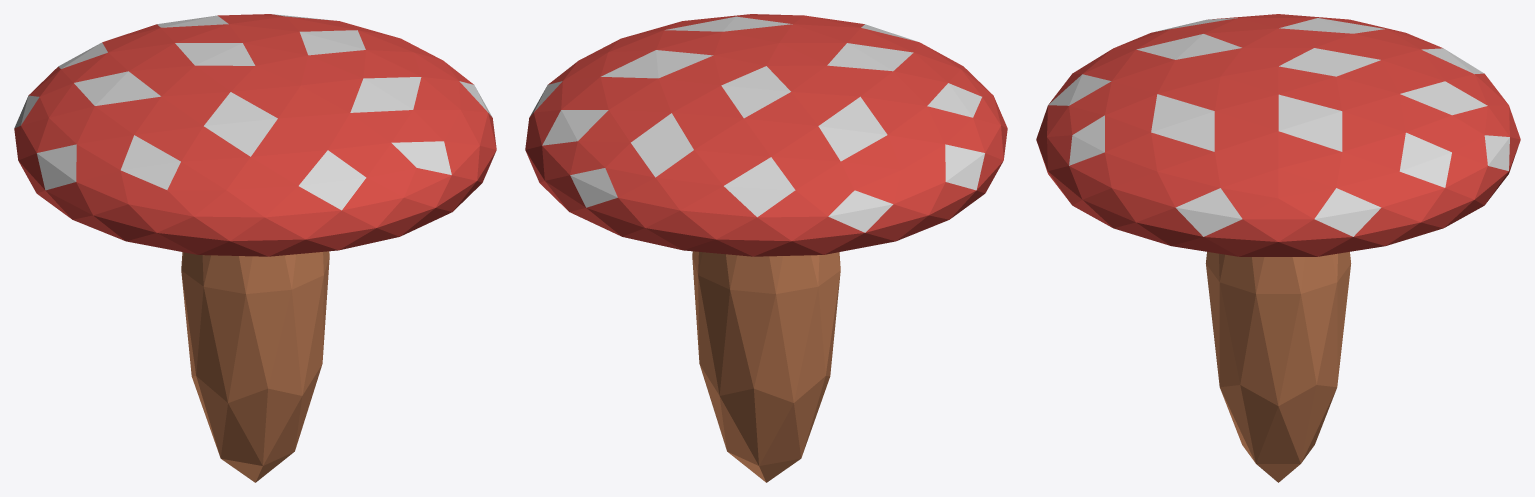
The model's file is shroom2.fbx.
3 renders of one model, left to right at view 1: azimuth 30°, elevation 25°; view 2: azimuth 150°, elevation 25°; view 3: azimuth 270°, elevation 25°, orthographic.
Parts seen in each view (by area): view 1: Icosphere.001; view 2: Icosphere.001; view 3: Icosphere.001.
Part boxes in pixels (x1,y1,x2,y2): Icosphere.001: [14, 14, 496, 482]; Icosphere.001: [525, 14, 1007, 482]; Icosphere.001: [1036, 14, 1520, 482].
Size of the model in its own units: 600 by 569 by 600.
